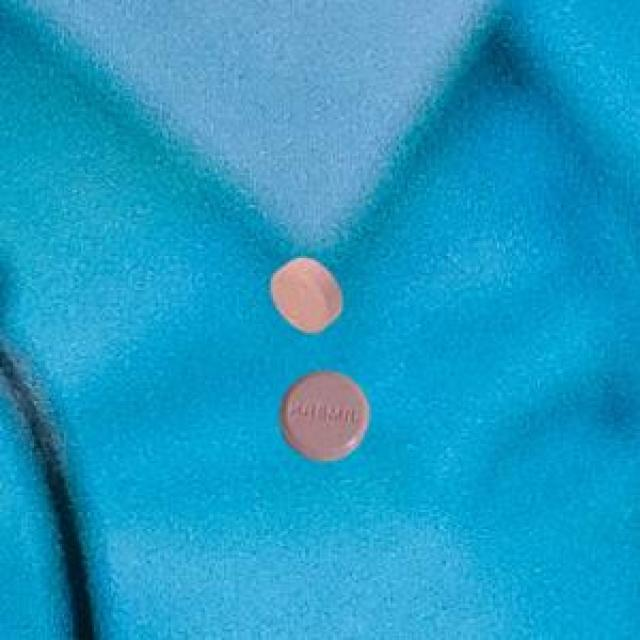Kremil_S: (266, 365, 379, 470), (261, 251, 348, 347)
